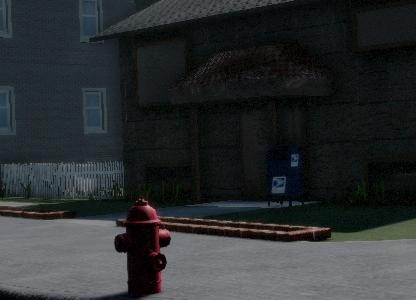Speed_30: (40, 49, 107, 119)
